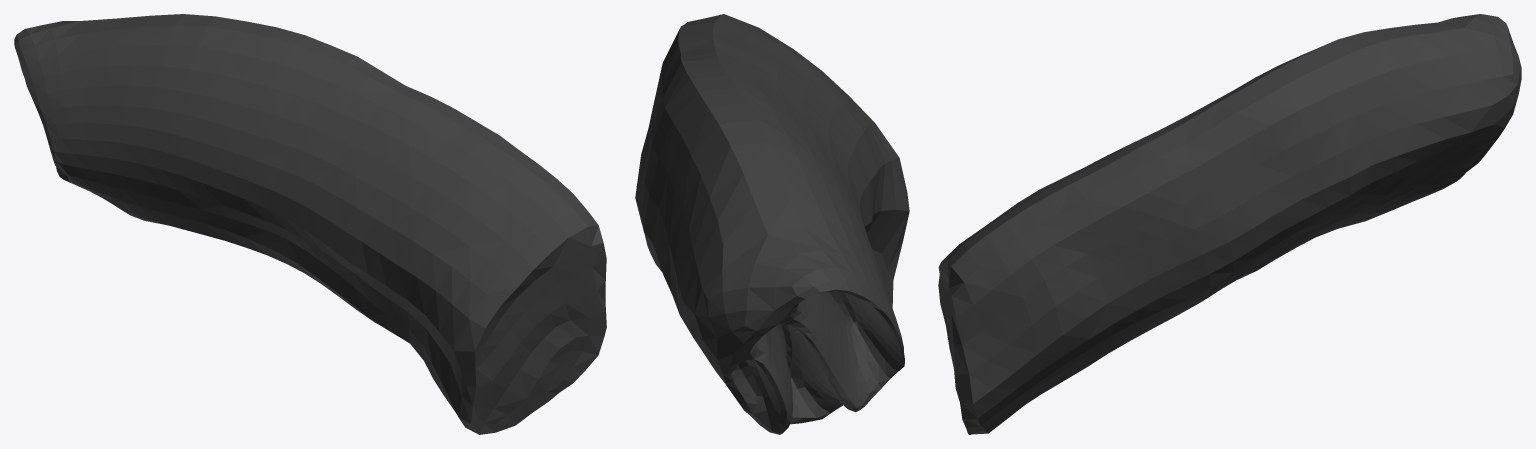
3 renders of one model, left to right at view 1: azimuth 30°, elevation 25°; view 2: azimuth 150°, elevation 25°; view 3: azimuth 270°, elevation 25°, orthographic. The views are drawn at different scales.
Visible parts, largest first — view 1: world; view 2: world; view 3: world.
Part boxes in pixels (x1=…): world: x1=14, y1=14, x2=606, y2=434; world: x1=635, y1=14, x2=909, y2=434; world: x1=938, y1=14, x2=1521, y2=434.
Size of the model in its own units: 0.298 by 0.2436 by 0.3928.
Materials: 1 (1 with a texture image).
